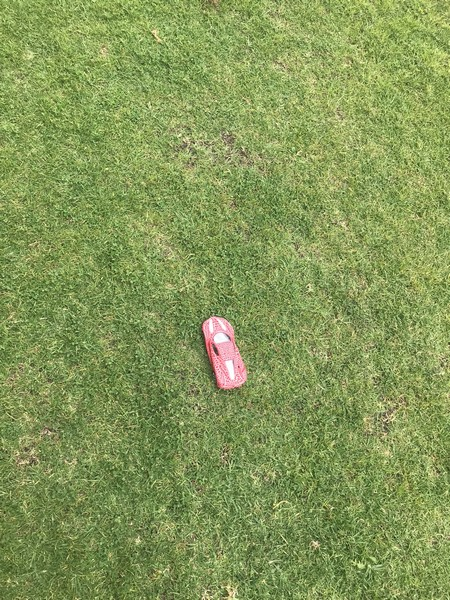RC: (199, 316, 252, 391)
